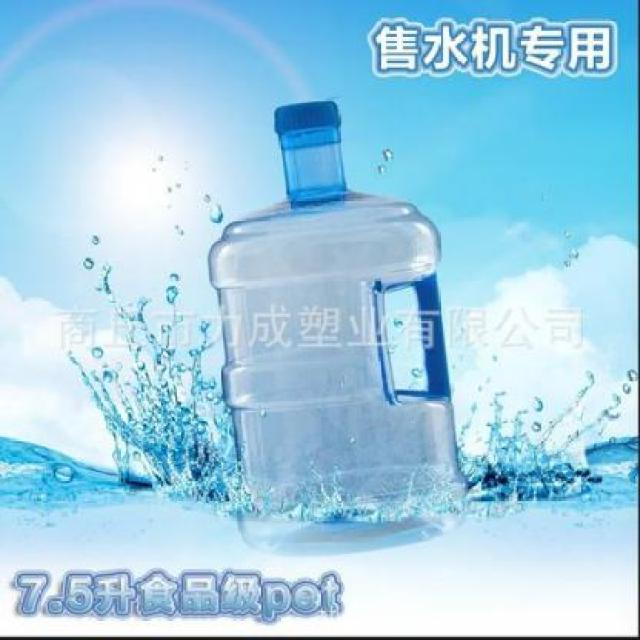coolerbottle: (208, 94, 474, 559)
